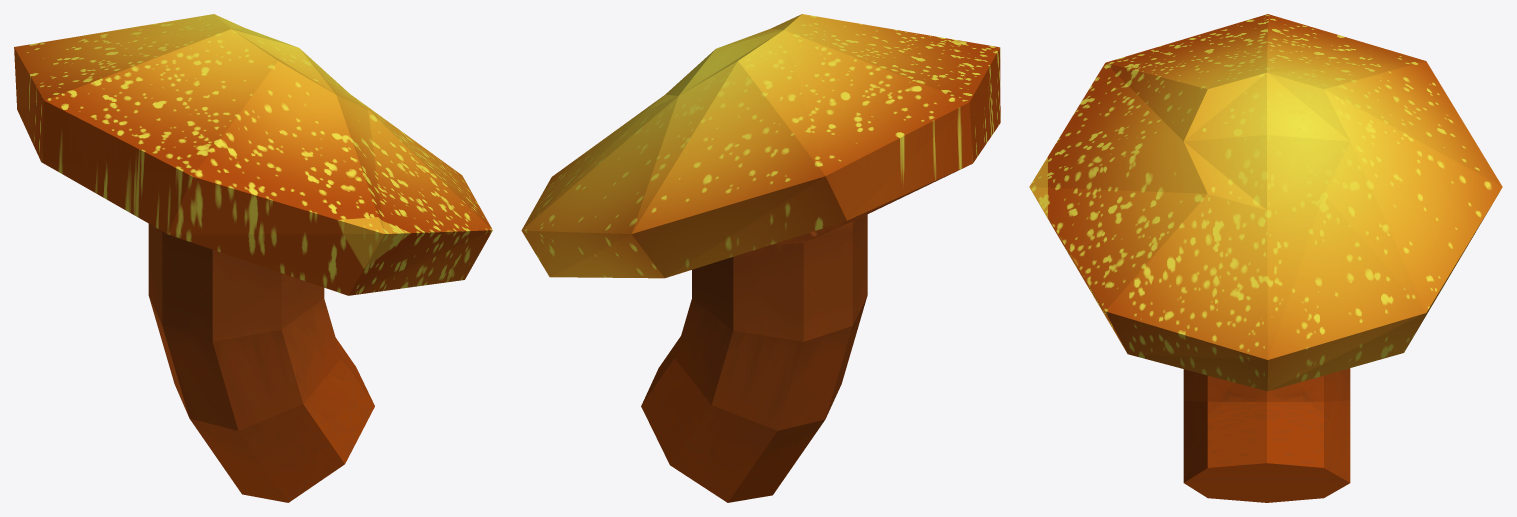
Rendered from shroom3VO-texture.fbx.
3 views of the same model, side by side, from view 1: azimuth 30°, elevation 25°; view 2: azimuth 150°, elevation 25°; view 3: azimuth 270°, elevation 25° (orthographic). The views are drawn at different scales.
Visible parts, largest first — view 1: pCube3; view 2: pCube3; view 3: pCube3.
Boxes of the visible parts, x1,y1,x2,y2 form: pCube3: (14, 14, 492, 502); pCube3: (521, 14, 1000, 502); pCube3: (1029, 14, 1502, 502).
Size of the model in its own units: 2.65 by 2.82 by 2.84.
